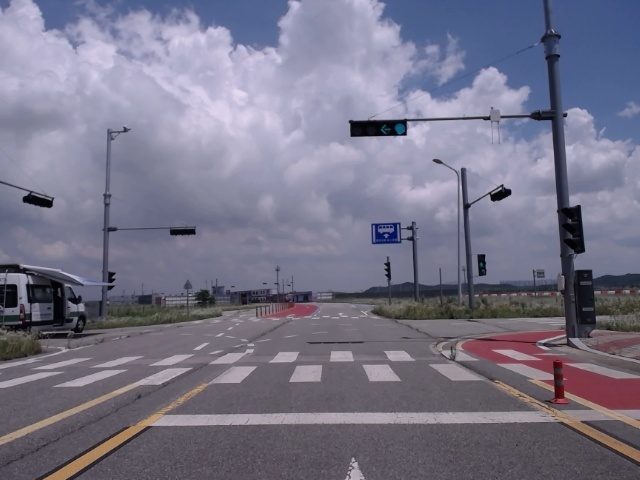all_green_4: (353, 122, 408, 137)
